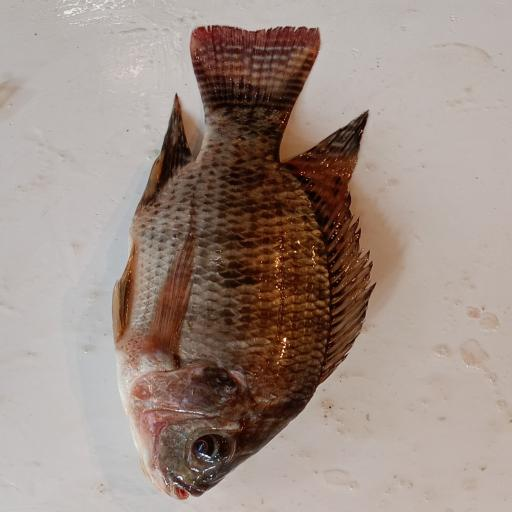Tilapia: (111, 24, 376, 502)
